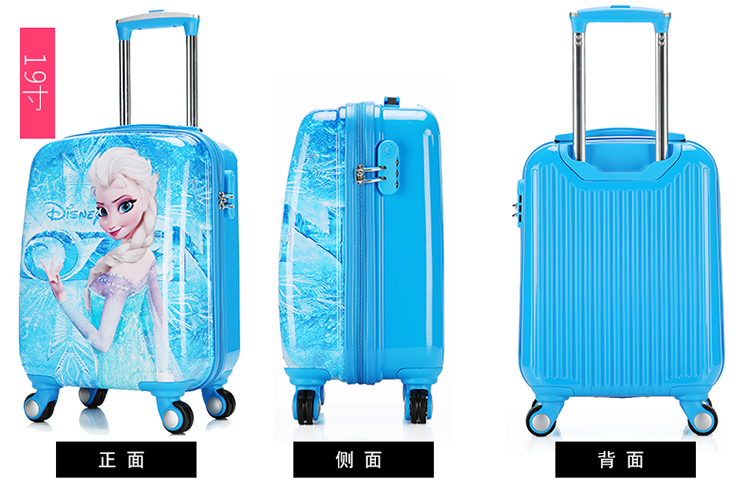suitcase: (514, 0, 727, 438), (276, 91, 446, 429)
